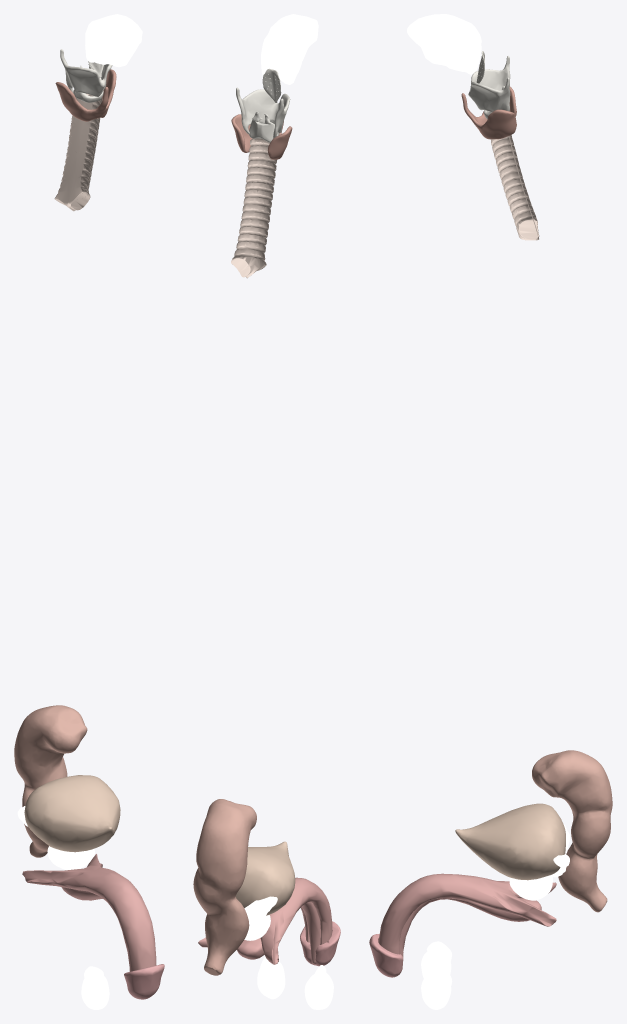
File: zanatomy-organs2.glb
The picture shows the model from 3 angles, left to right: view 1: azimuth 30°, elevation 25°; view 2: azimuth 150°, elevation 25°; view 3: azimuth 270°, elevation 25°; orthographic projection.
Parts seen in each view (by area): view 1: za2_urinary_bladder, bp_rectum, za2_corpus_cavernosum, za2_trachea, za2_tongue, za2_thyroid_gland, za2_thyroid_cartilage, za2_glans_penis, za2_testis_r, za2_prostate; view 2: bp_rectum, za2_trachea, za2_urinary_bladder, za2_tongue, za2_corpus_cavernosum, za2_thyroid_cartilage, za2_corpus_spongiosum, za2_thyroid_gland, za2_glans_penis, za2_testis_r, za2_testis_l, za2_seminal_gland_r (+3 smaller); view 3: bp_rectum, za2_urinary_bladder, za2_corpus_cavernosum, za2_tongue, za2_trachea, za2_thyroid_cartilage, za2_thyroid_gland, za2_corpus_spongiosum, za2_glans_penis, za2_testis_l, za2_prostate.
Boxes of the visible parts, bbox=[...] form: za2_urinary_bladder: bbox=[24, 775, 120, 852]; bp_rectum: bbox=[14, 705, 87, 857]; za2_corpus_cavernosum: bbox=[22, 854, 156, 971]; za2_trachea: bbox=[54, 93, 102, 211]; za2_tongue: bbox=[85, 14, 142, 67]; za2_thyroid_gland: bbox=[55, 69, 116, 121]; za2_thyroid_cartilage: bbox=[60, 49, 112, 96]; za2_glans_penis: bbox=[124, 964, 164, 999]; za2_testis_r: bbox=[81, 975, 109, 1009]; za2_prostate: bbox=[47, 846, 94, 870]; bp_rectum: bbox=[193, 799, 256, 975]; za2_trachea: bbox=[231, 138, 276, 278]; za2_urinary_bladder: bbox=[235, 841, 295, 915]; za2_tongue: bbox=[261, 14, 318, 84]; za2_corpus_cavernosum: bbox=[198, 877, 332, 964]; za2_thyroid_cartilage: bbox=[236, 87, 290, 138]; za2_corpus_spongiosum: bbox=[237, 902, 320, 963]; za2_thyroid_gland: bbox=[231, 114, 292, 159]; za2_glans_penis: bbox=[300, 921, 340, 966]; za2_testis_r: bbox=[304, 972, 333, 1009]; za2_testis_l: bbox=[257, 961, 285, 999]; za2_seminal_gland_r: bbox=[244, 896, 277, 922]; bp_rectum: bbox=[532, 750, 612, 912]; za2_urinary_bladder: bbox=[455, 803, 565, 880]; za2_corpus_cavernosum: bbox=[378, 873, 556, 954]; za2_tongue: bbox=[407, 14, 481, 74]; za2_trachea: bbox=[490, 135, 539, 240]; za2_thyroid_cartilage: bbox=[468, 56, 510, 112]; za2_thyroid_gland: bbox=[461, 86, 516, 139]; za2_corpus_spongiosum: bbox=[399, 898, 541, 969]; za2_glans_penis: bbox=[369, 934, 403, 977]; za2_testis_l: bbox=[421, 974, 451, 1009]; za2_prostate: bbox=[509, 876, 552, 900].
Bounding box in the file's own units: 0.0745 × 0.8129 × 0.1829.
